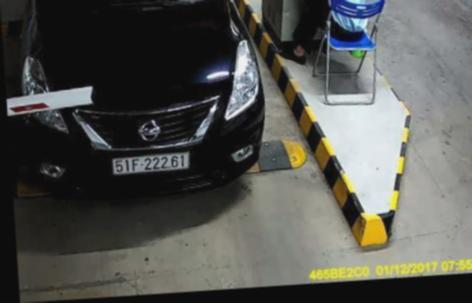License_Plate: (110, 147, 192, 179)
